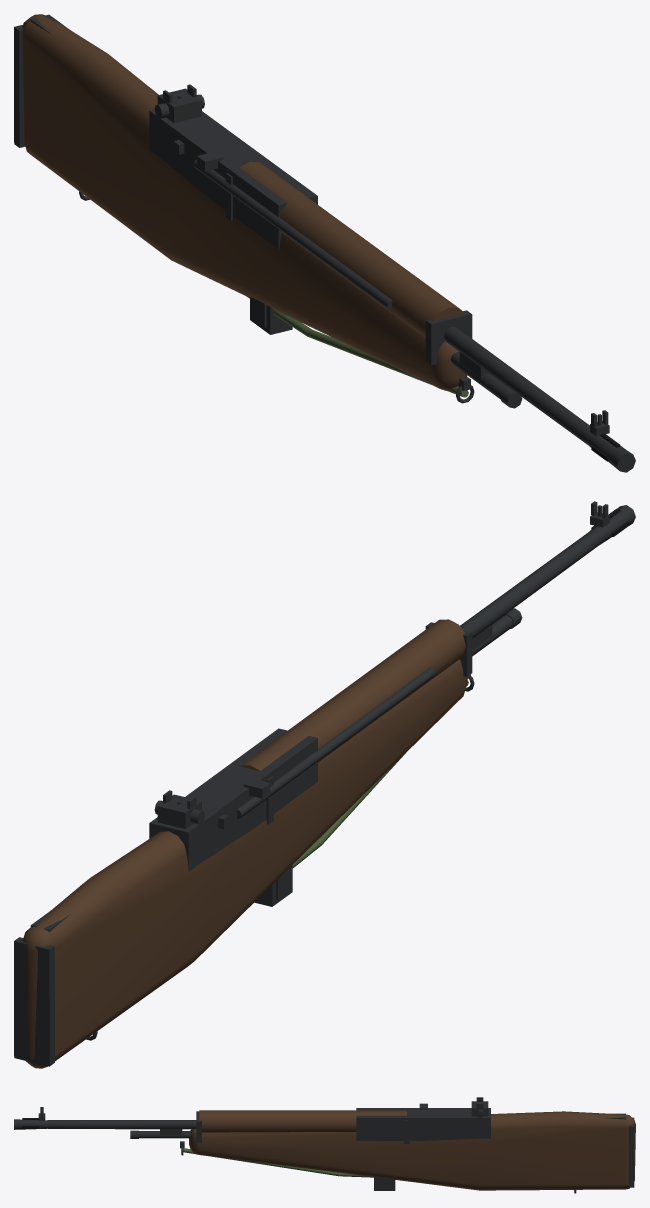
3 views of the same model, one above another, from view 1: azimuth 30°, elevation 25°; view 2: azimuth 150°, elevation 25°; view 3: azimuth 270°, elevation 25° (orthographic). The views are drawn at different scales.
Parts seen in each view (by area): view 1: Mesh_StockWood, Mesh_Handguard, Mesh_Receiver, Mesh_Barrel, Mesh_OpRod, Mesh_HandguardBandFront, Mesh_Buttplate, Mesh_RearSightBase, Mesh_SlingSeg1, Mesh_FlashSuppressor, Mesh_GasCylinder; view 2: Mesh_StockWood, Mesh_Handguard, Mesh_Receiver, Mesh_Buttplate, Mesh_Barrel, Mesh_OpRod, Mesh_RearSightBase; view 3: Mesh_StockWood, Mesh_Receiver, Mesh_Handguard, Mesh_Barrel, Mesh_Buttplate, Mesh_SlingSeg1, Mesh_GasCylinder, Mesh_FlashSuppressor, Mesh_RearSightBase, Mesh_MagRibL, Mesh_HandguardBandFront.
Part boxes in pixels (left/top/right/bottom): Mesh_StockWood: left=22, top=14, right=467, bottom=390; Mesh_Handguard: left=239, top=161, right=464, bottom=337; Mesh_Receiver: left=149, top=109, right=317, bottom=249; Mesh_Barrel: left=444, top=326, right=591, bottom=445; Mesh_OpRod: left=193, top=159, right=392, bottom=309; Mesh_HandguardBandFront: left=425, top=310, right=472, bottom=365; Mesh_Buttplate: left=14, top=25, right=25, bottom=147; Mesh_RearSightBase: left=157, top=88, right=201, bottom=122; Mesh_SlingSeg1: left=306, top=329, right=468, bottom=397; Mesh_FlashSuppressor: left=587, top=433, right=635, bottom=472; Mesh_GasCylinder: left=450, top=352, right=507, bottom=399; Mesh_StockWood: left=22, top=659, right=467, bottom=1068; Mesh_Handguard: left=240, top=619, right=465, bottom=770; Mesh_Receiver: left=149, top=728, right=317, bottom=871; Mesh_Buttplate: left=14, top=937, right=54, bottom=1066; Mesh_Barrel: left=460, top=530, right=601, bottom=638; Mesh_OpRod: left=237, top=667, right=435, bottom=818; Mesh_RearSightBase: left=157, top=794, right=201, bottom=828; Mesh_StockWood: left=189, top=1111, right=635, bottom=1190; Mesh_Receiver: left=356, top=1108, right=490, bottom=1140; Mesh_Handguard: left=199, top=1110, right=406, bottom=1132; Mesh_Barrel: left=47, top=1120, right=196, bottom=1129; Mesh_Buttplate: left=628, top=1117, right=634, bottom=1187; Mesh_SlingSeg1: left=183, top=1148, right=339, bottom=1176; Mesh_GasCylinder: left=139, top=1131, right=190, bottom=1138; Mesh_FlashSuppressor: left=14, top=1119, right=47, bottom=1129; Mesh_RearSightBase: left=471, top=1101, right=488, bottom=1116; Mesh_MagRibL: left=377, top=1176, right=391, bottom=1188; Mesh_HandguardBandFront: left=196, top=1111, right=201, bottom=1142.
Size of the model in its own units: 0.058 by 0.1815 by 1.11.
